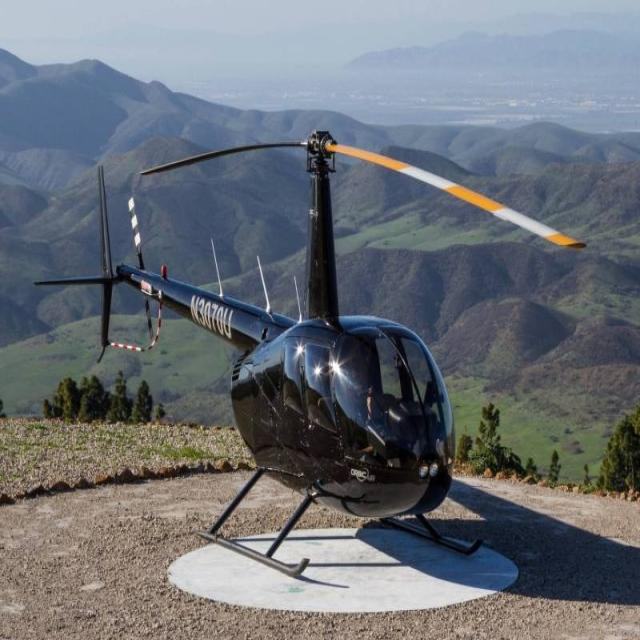CIV_HELO: (32, 126, 487, 584)
